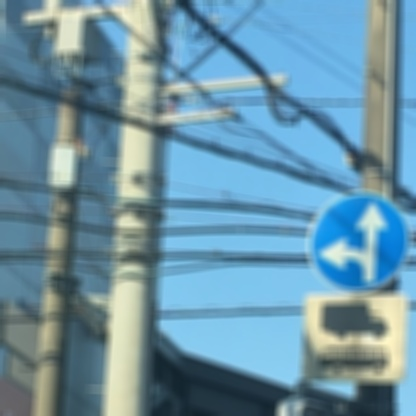Direction_sign: (306, 189, 416, 297)
